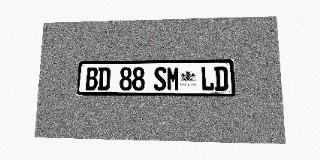8: (119, 67, 132, 91), (132, 67, 145, 91)
B: (85, 67, 98, 90)
D: (214, 66, 228, 91), (98, 67, 110, 91)
L: (201, 66, 214, 91)
M: (167, 67, 180, 91)
S: (154, 67, 166, 91)
